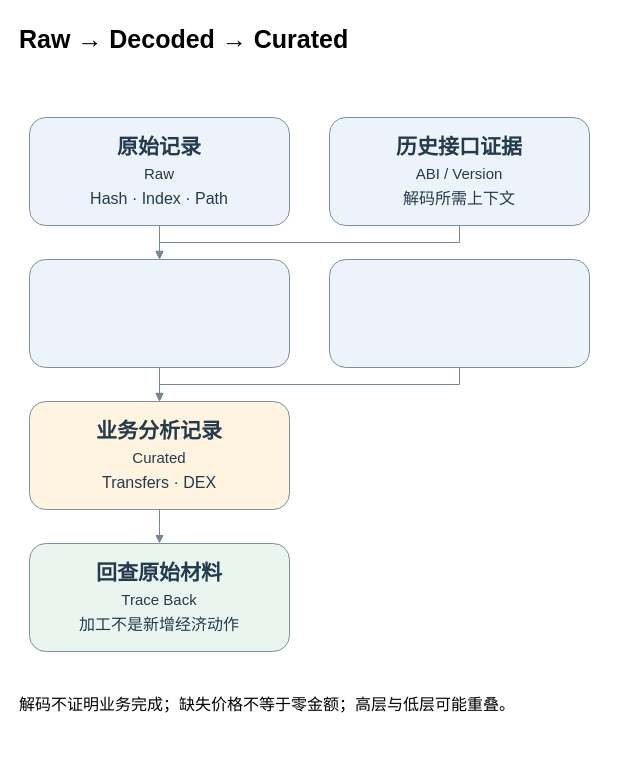
This 618x775 diagram has some shape labels left out. The centre of each missing label's shape, as x and y in pixels:
"可读参数 Decoded 调用与事件分别解释" belongs at point 159,313.
"模型与单位 Model / Units 覆盖与去重规则" belongs at point 459,313.
